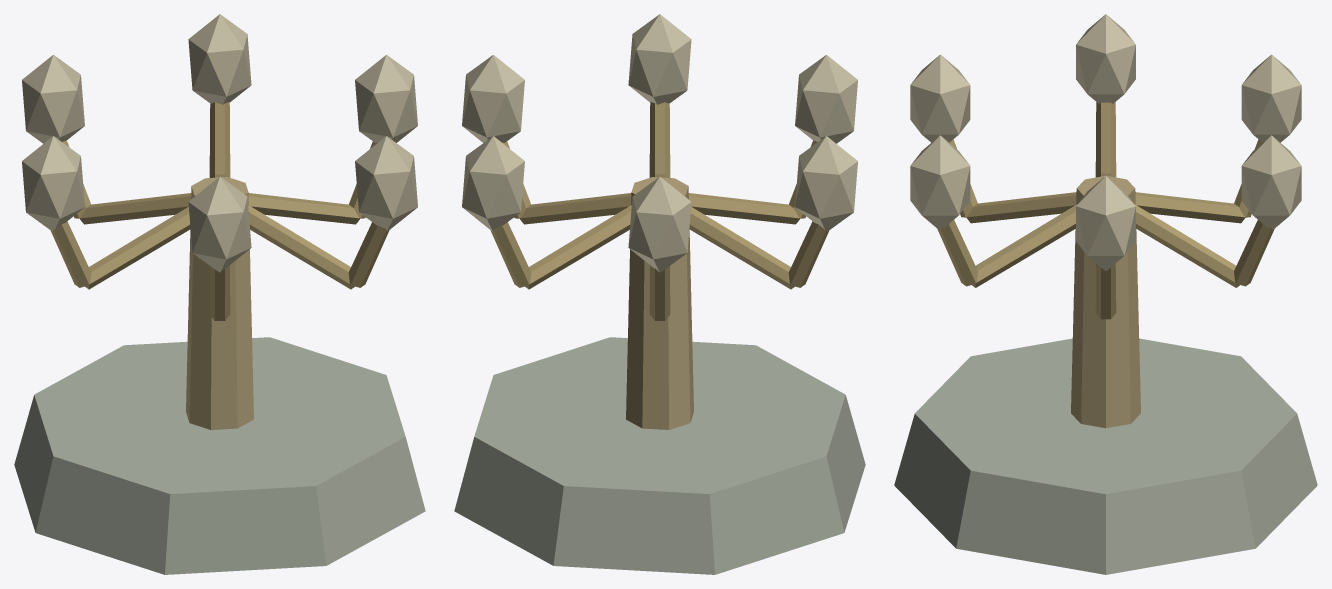
Rendered from map-exclusive-v3__champion_11.glb.
The picture shows the model from 3 angles, left to right: view 1: azimuth 30°, elevation 25°; view 2: azimuth 150°, elevation 25°; view 3: azimuth 270°, elevation 25°; orthographic projection.
Parts seen in each view (by area): view 1: champion_11; view 2: champion_11; view 3: champion_11.
Part boxes in pixels (<box>): champion_11: <box>14,14,425,574</box>; champion_11: <box>454,14,865,574</box>; champion_11: <box>894,14,1317,574</box>.
Bounding box in the file's own units: 1.51 × 1.47 × 1.44.
